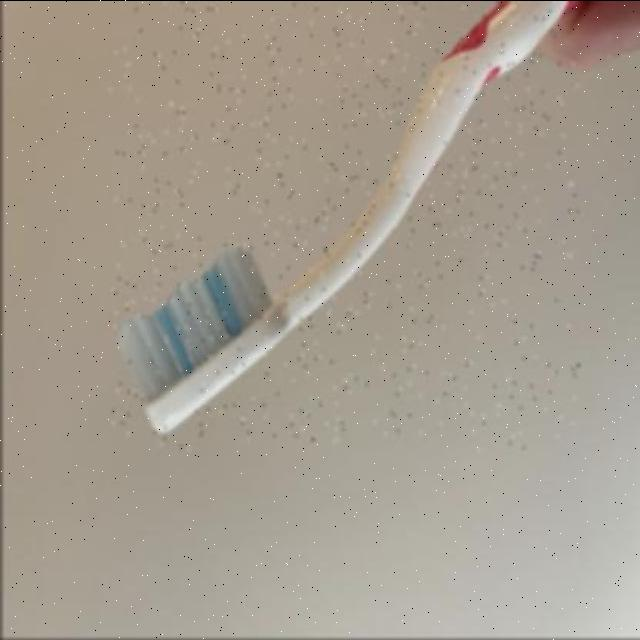toothbrush: (108, 0, 578, 450)
